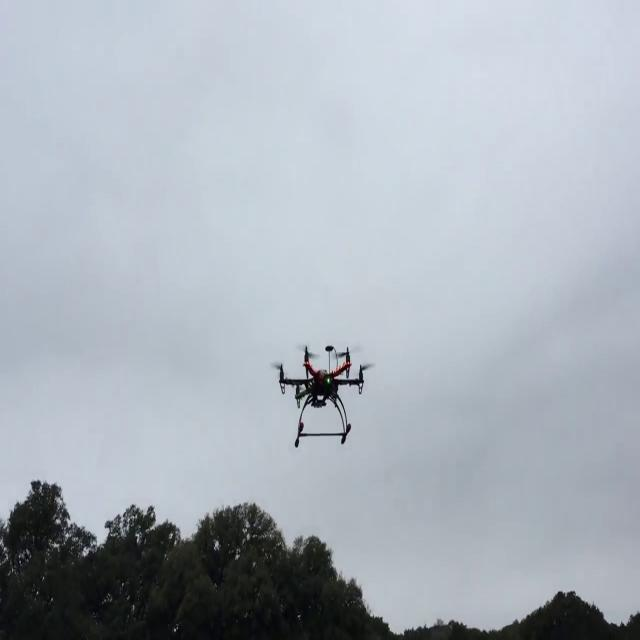drone: (259, 324, 367, 463)
